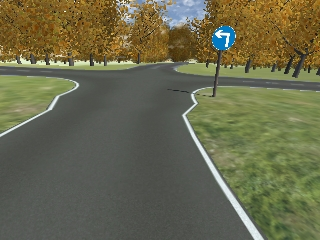left: (211, 26, 238, 51)
